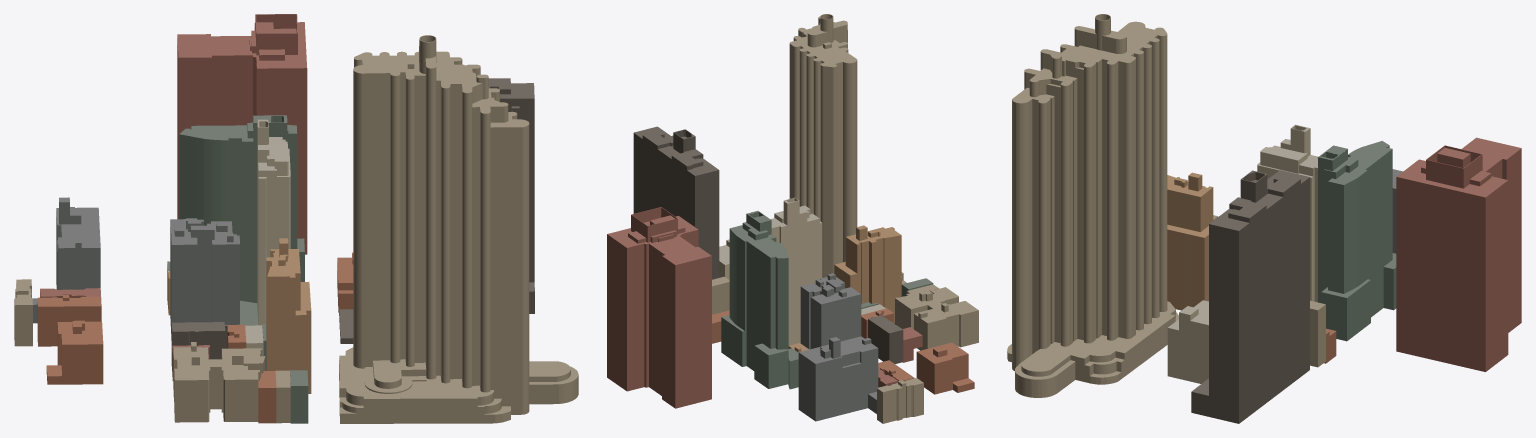
Rendered from tile-10_-10.glb.
3 views of the same model, side by side, from view 1: azimuth 30°, elevation 25°; view 2: azimuth 150°, elevation 25°; view 3: azimuth 270°, elevation 25° (orthographic). The views are drawn at different scales.
Parts seen in each view (by area): view 1: wall, roof; view 2: wall, roof; view 3: wall, roof.
Boxes of the visible parts, x1,y1,x2,y2 form: wall: (14, 14, 578, 423); roof: (14, 14, 578, 414); wall: (607, 14, 978, 423); roof: (607, 14, 978, 399); wall: (1007, 14, 1521, 423); roof: (1007, 14, 1521, 395).
Bounding box in the file's own units: 235 × 170 × 241.
